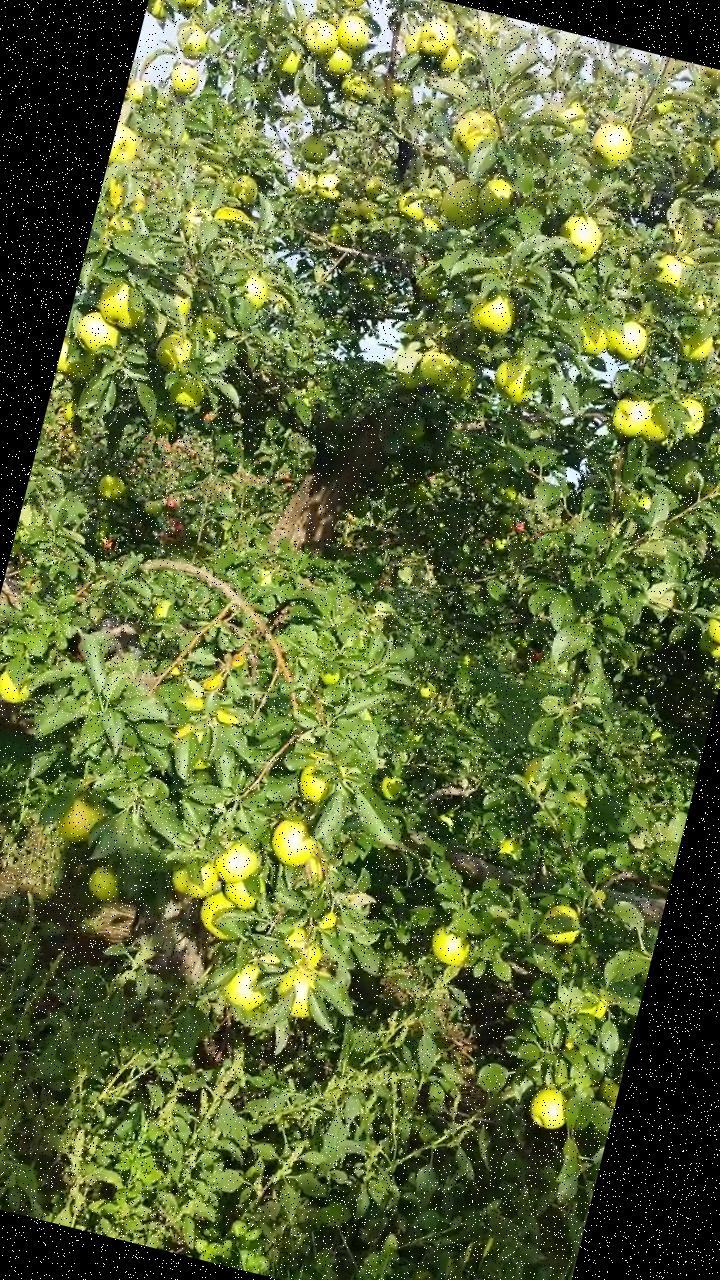Apple: (54, 790, 112, 851), (450, 104, 505, 160), (490, 355, 544, 408), (440, 176, 490, 232), (168, 854, 226, 902), (220, 959, 272, 1012), (196, 886, 241, 944), (602, 318, 654, 368), (588, 120, 637, 173), (99, 280, 150, 330), (270, 818, 320, 869), (214, 838, 265, 888), (468, 288, 518, 337), (73, 309, 124, 357), (274, 967, 320, 1020), (554, 212, 602, 262), (538, 900, 586, 946), (152, 329, 196, 376), (430, 924, 474, 970), (530, 1085, 574, 1130), (476, 174, 514, 226), (574, 314, 616, 360), (612, 394, 654, 439), (283, 925, 325, 968), (334, 12, 373, 56), (57, 338, 96, 382), (302, 16, 342, 58), (419, 21, 460, 60), (418, 350, 457, 390), (85, 864, 125, 903), (270, 42, 308, 82), (174, 23, 212, 63), (444, 357, 481, 398), (674, 394, 710, 436), (296, 764, 332, 804), (167, 376, 208, 410), (109, 125, 142, 167), (222, 880, 262, 913), (654, 250, 686, 288), (227, 172, 263, 205), (0, 671, 34, 705), (678, 331, 714, 363), (669, 458, 702, 492), (433, 42, 465, 77), (320, 46, 355, 78), (241, 274, 272, 310), (169, 63, 202, 95), (395, 362, 428, 394), (300, 135, 332, 167), (96, 472, 128, 503), (558, 103, 589, 134), (398, 190, 430, 220), (298, 82, 330, 110), (379, 775, 408, 804), (316, 172, 346, 200), (579, 992, 610, 1019), (292, 168, 321, 195), (341, 74, 371, 100), (362, 175, 389, 203), (168, 294, 195, 322), (20, 502, 47, 530), (150, 412, 178, 438), (498, 836, 525, 862), (642, 418, 670, 443), (696, 630, 719, 660), (336, 198, 362, 224), (127, 77, 150, 104), (404, 22, 422, 56), (521, 754, 542, 782), (417, 215, 446, 235), (357, 200, 381, 222), (318, 668, 344, 688), (169, 0, 204, 13), (154, 598, 174, 620), (337, 0, 372, 12), (143, 501, 166, 518), (317, 0, 341, 15), (708, 616, 719, 648), (194, 754, 211, 773), (63, 401, 78, 422), (638, 492, 654, 510), (420, 686, 434, 698)
